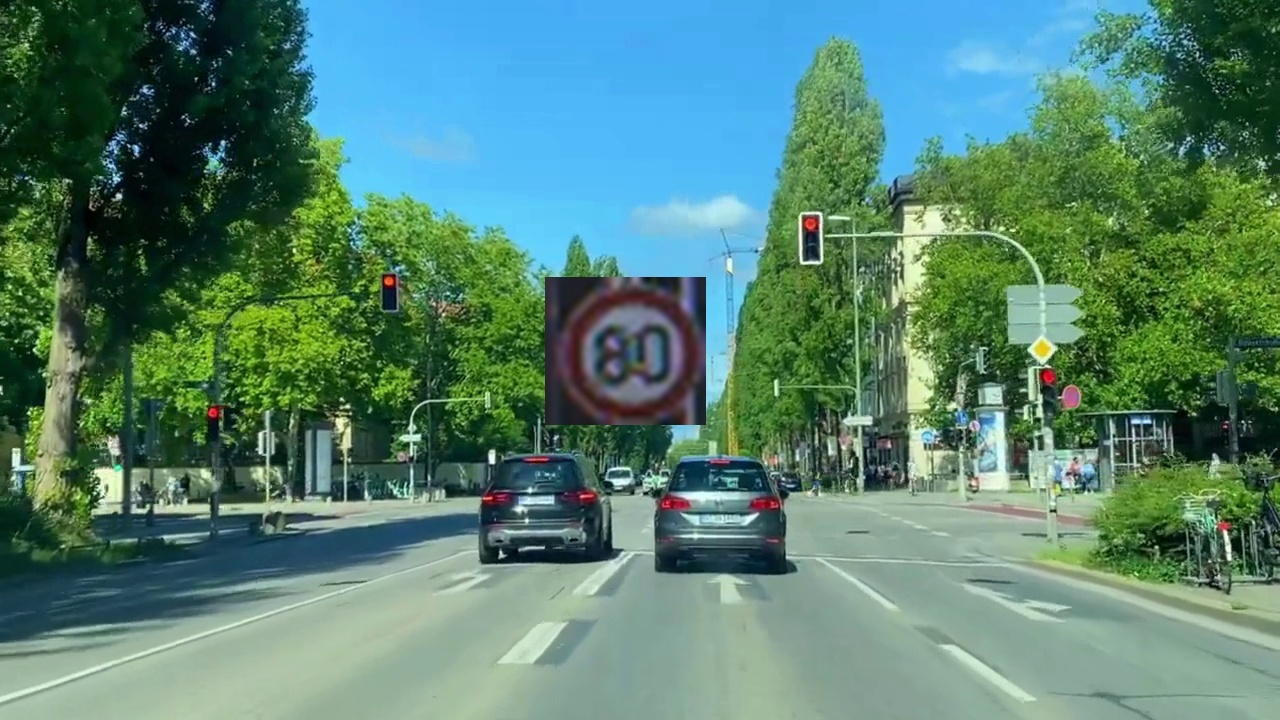Speed 80: (545, 277, 706, 425)
